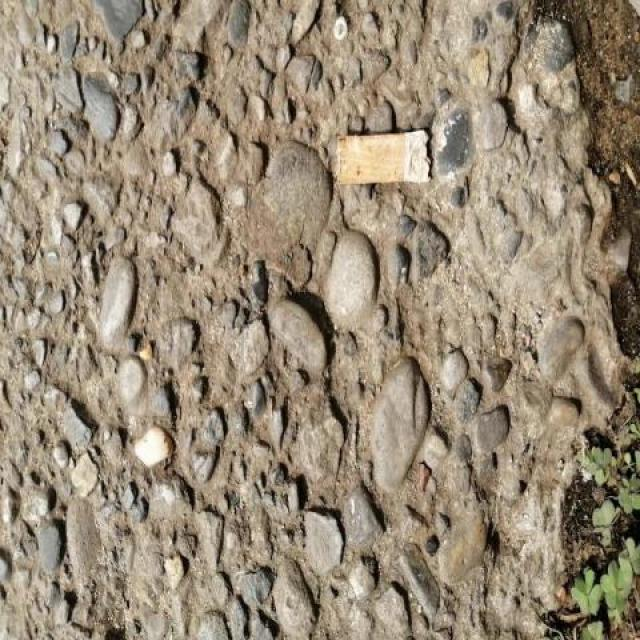non-organic waste: (332, 122, 436, 190)
